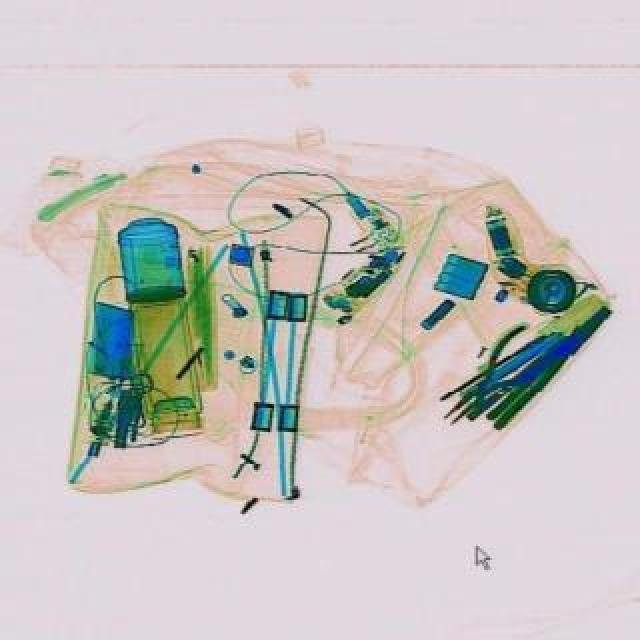wrench: (424, 322, 556, 438)
